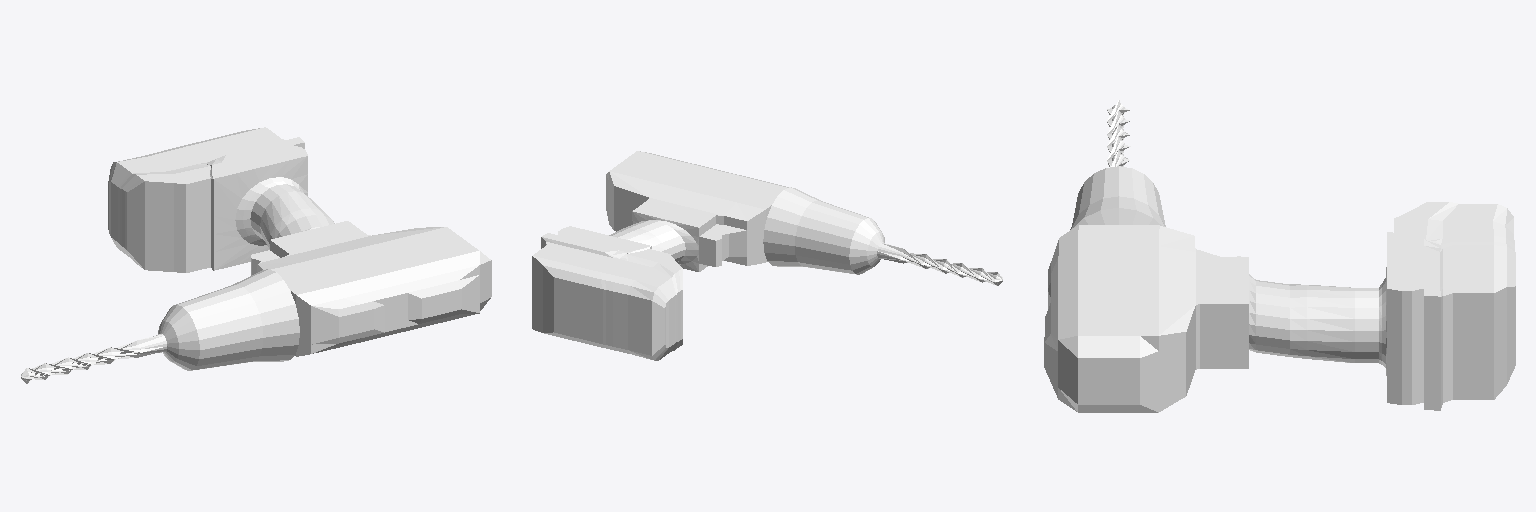
URDF robot description (power_drill):
<?xml version="1.0" ?>
<robot name="power_drill">
  <link name="base">
    <inertial>
        <origin rpy="0 0 0" xyz="0 0 0"/>
        <mass value="1.0"/>
        <inertia ixx="1" ixy="0" ixz="0" iyy="1" iyz="0" izz="1"/>
    </inertial>
   <visual>
     <origin rpy="0 0 0" xyz="0 0 0"/>
     <geometry>
       <mesh filename="power_drill.obj" scale="1 1 1"/>
     </geometry>
      <material name="white">
       <color rgba="1 1 1 1"/>
     </material>
   </visual>
   <collision>
     <origin rpy="0 0 0" xyz="0 0 0"/>
     <geometry>
       <mesh filename="power_drill_vhacd.obj" scale="1 1 1"/>
     </geometry>
   </collision>
  </link>
  <link name="grasp">
    <inertial>
      <origin rpy="0 0 0" xyz="0 0 0"/>
       <mass value="0.0"/>
       <inertia ixx="1" ixy="0" ixz="0" iyy="1" iyz="0" izz="1"/>
    </inertial>
  </link>
  <joint name="base__grasp" type="fixed">
    <origin xyz="0.0 0.0 0.0" rpy="0.0 0.0 0.0"/>
    <parent link="base"/>
    <child link="grasp"/>
  </joint>
</robot>

--- Render facts (derived) ---
Views: 3 orthographic renders of the robot side by side, from view 1: azimuth 30°, elevation 25°; view 2: azimuth 150°, elevation 25°; view 3: azimuth 270°, elevation 25°.
Robot: power_drill — 2 links, 1 joints (1 fixed); root link base; default pose: all joints at 0.
Visible links, largest first — view 1: base; view 2: base; view 3: base.
Boxes of the visible links, <box> form: base: <box>21,127,491,383</box>; base: <box>532,151,1002,360</box>; base: <box>1044,100,1515,412</box>.
Size in the robot's own frame: 0.3613 by 0.2617 by 0.07 metres.
Meshes: 1 distinct files referenced, 1 mesh visuals loaded (1 OBJ).